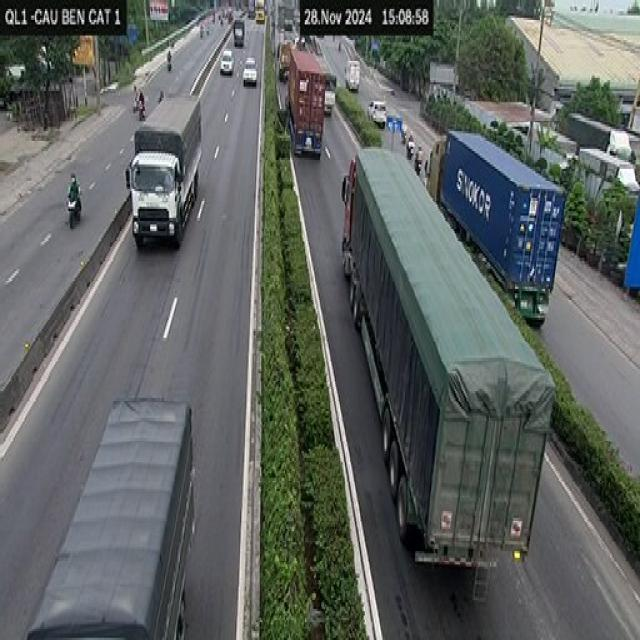container-truck: (332, 144, 558, 596), (415, 118, 573, 344), (284, 39, 328, 168)
truck: (26, 393, 201, 640), (126, 92, 205, 252)
